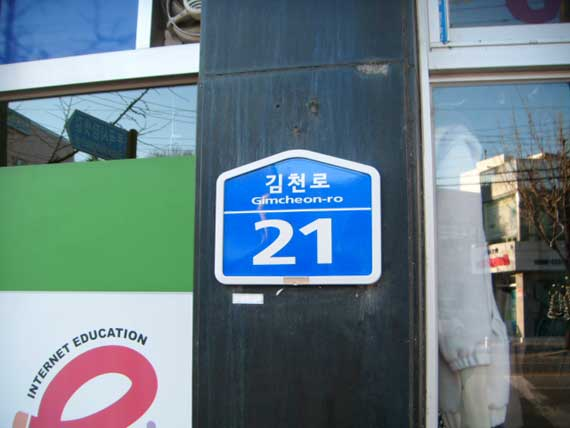building_license_plate1: (214, 148, 381, 285)
